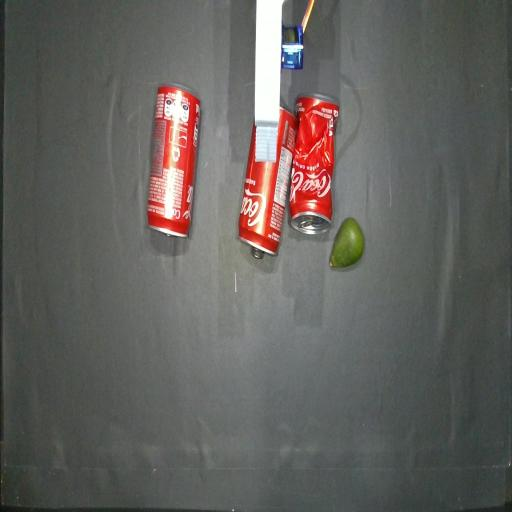higo: (330, 218, 364, 267)
lata: (238, 109, 296, 256), (147, 85, 201, 237)
lata_defectuoso: (289, 94, 339, 234)
